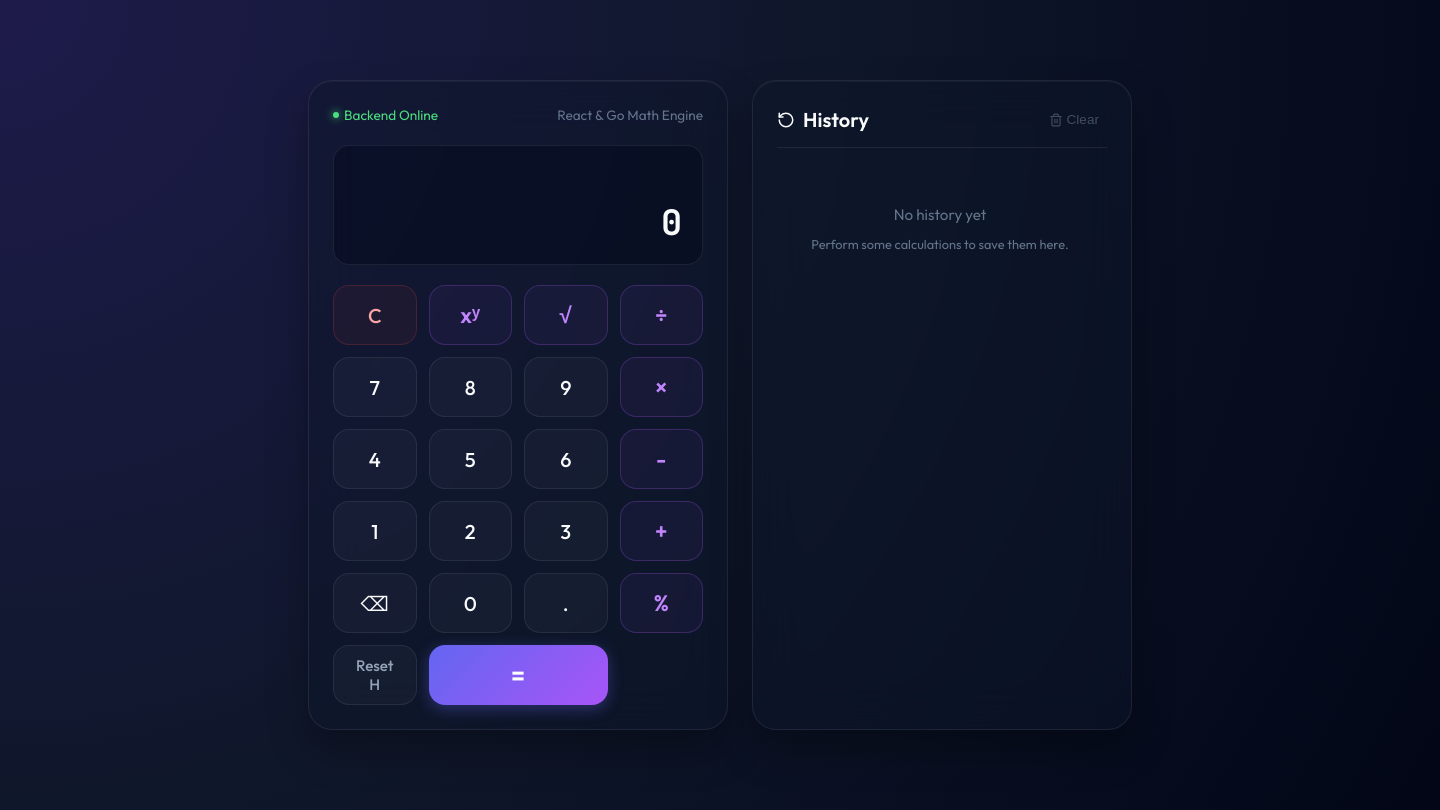
Test case: Calculator Component › updates screen display as number keys are clicked
Step 1. Click the button "7" → (375, 387), box [333,357,416,417]
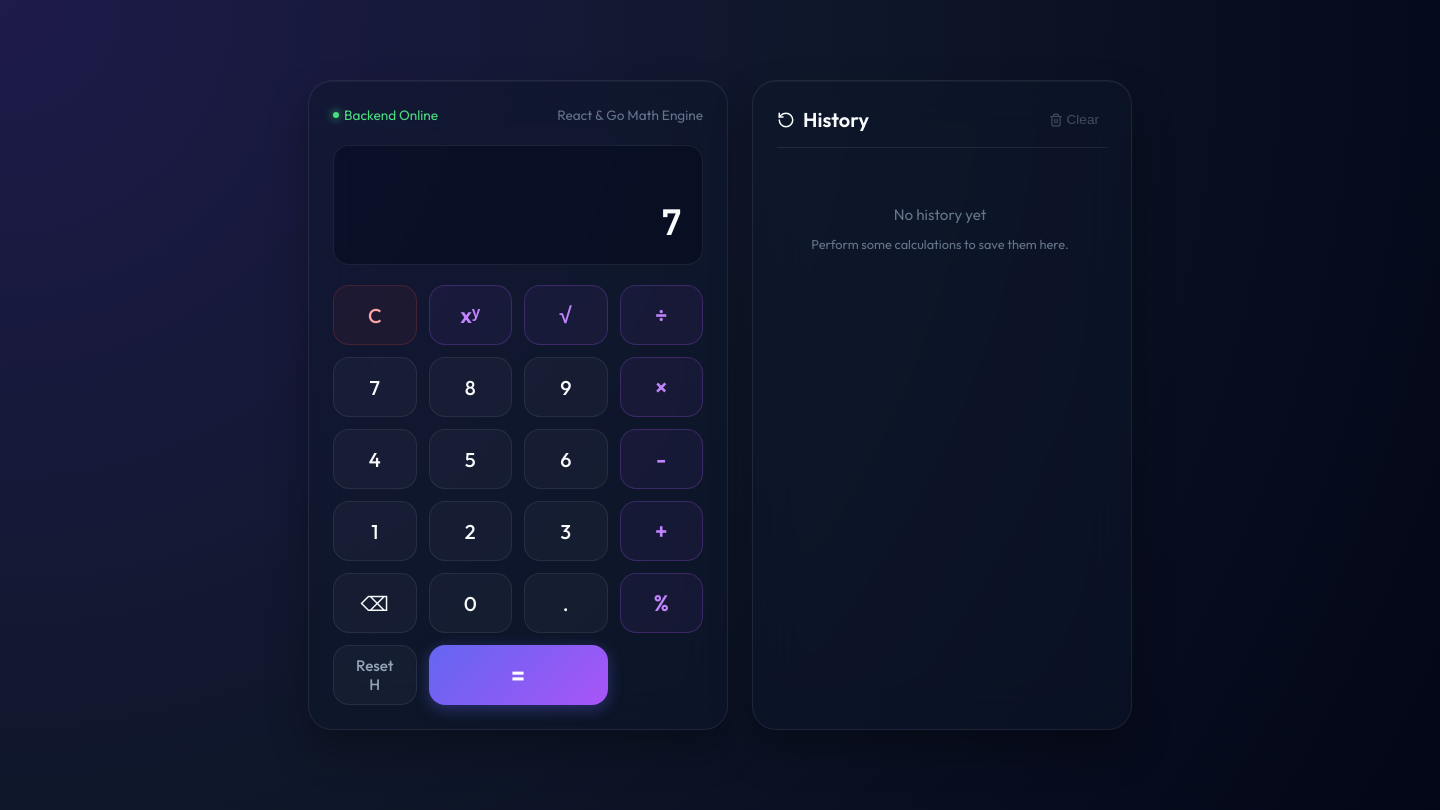
Step 2. Click the button "5" → (470, 459), box [428,429,512,489]
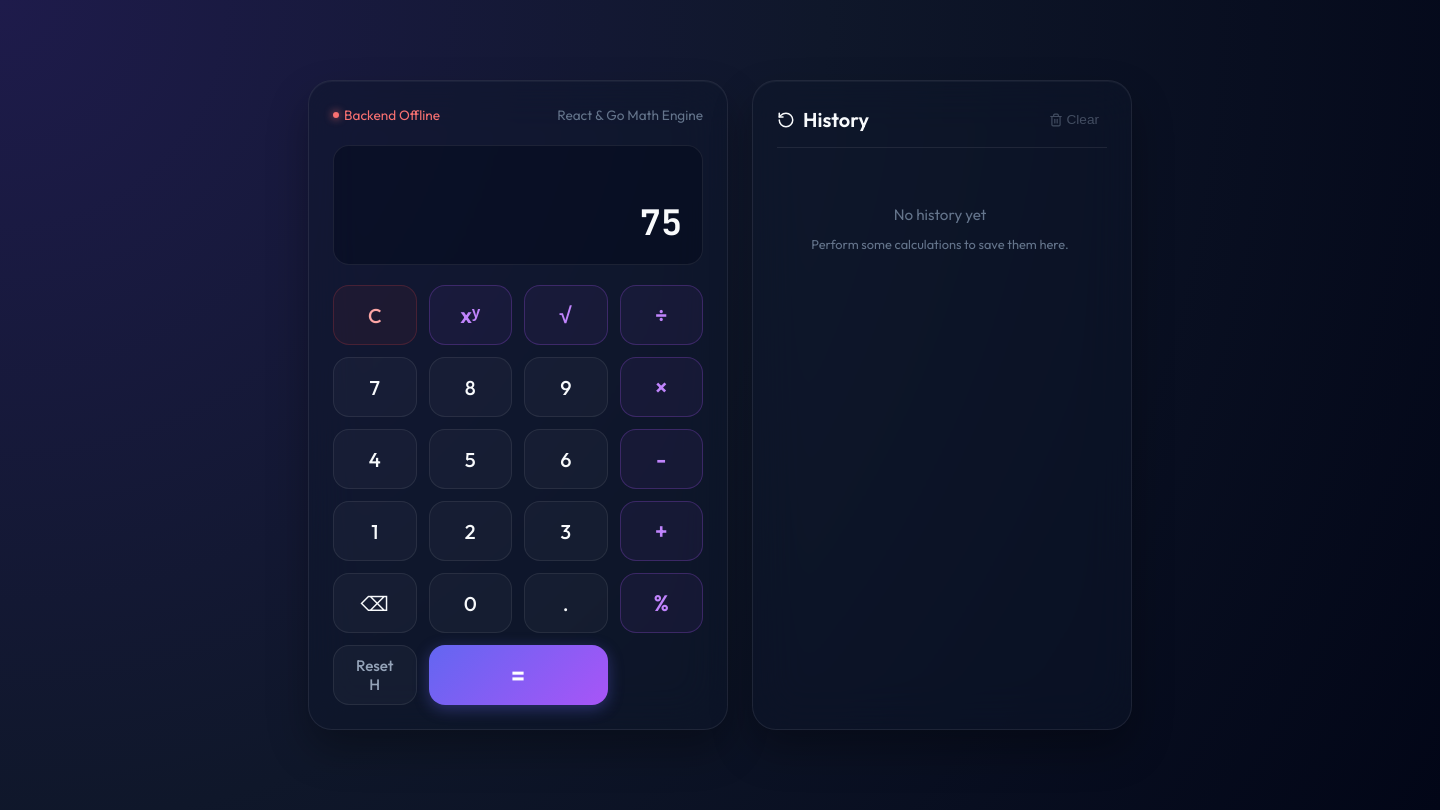
Expected: the text "75" is shown, [640,199,682,246]
